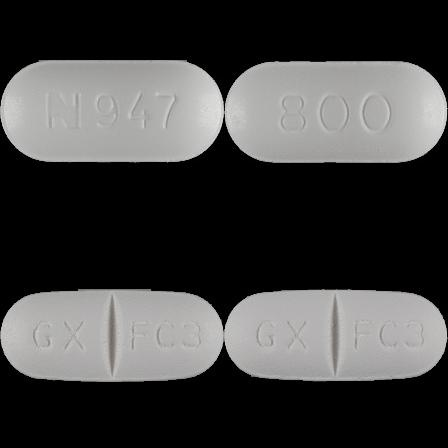53808-0894: (0, 0, 224, 224)
